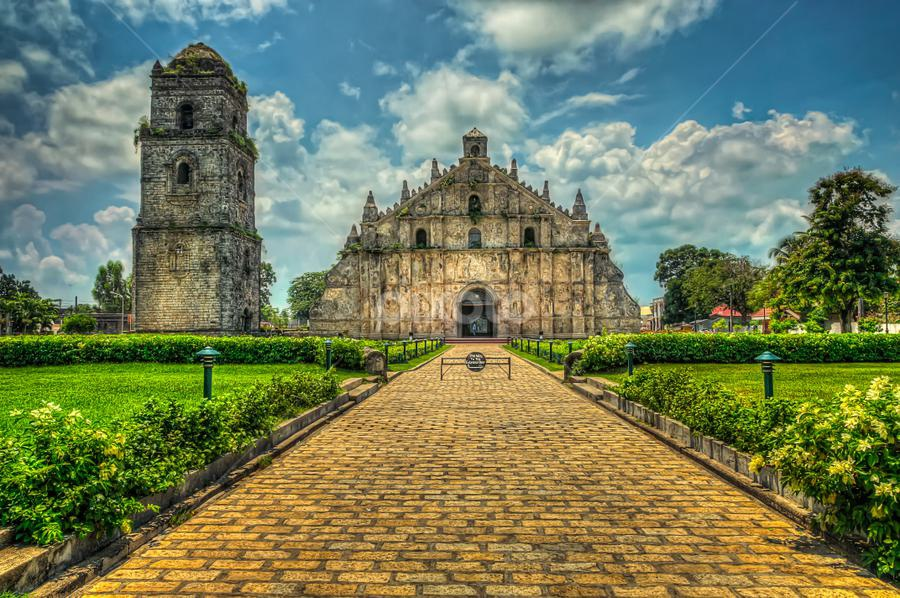paoay_church_paoay_ilocos_norte: (124, 30, 655, 353)
vegetation_damage: (225, 124, 263, 161), (129, 115, 156, 152), (233, 224, 264, 246), (465, 208, 491, 227), (391, 205, 416, 221)
